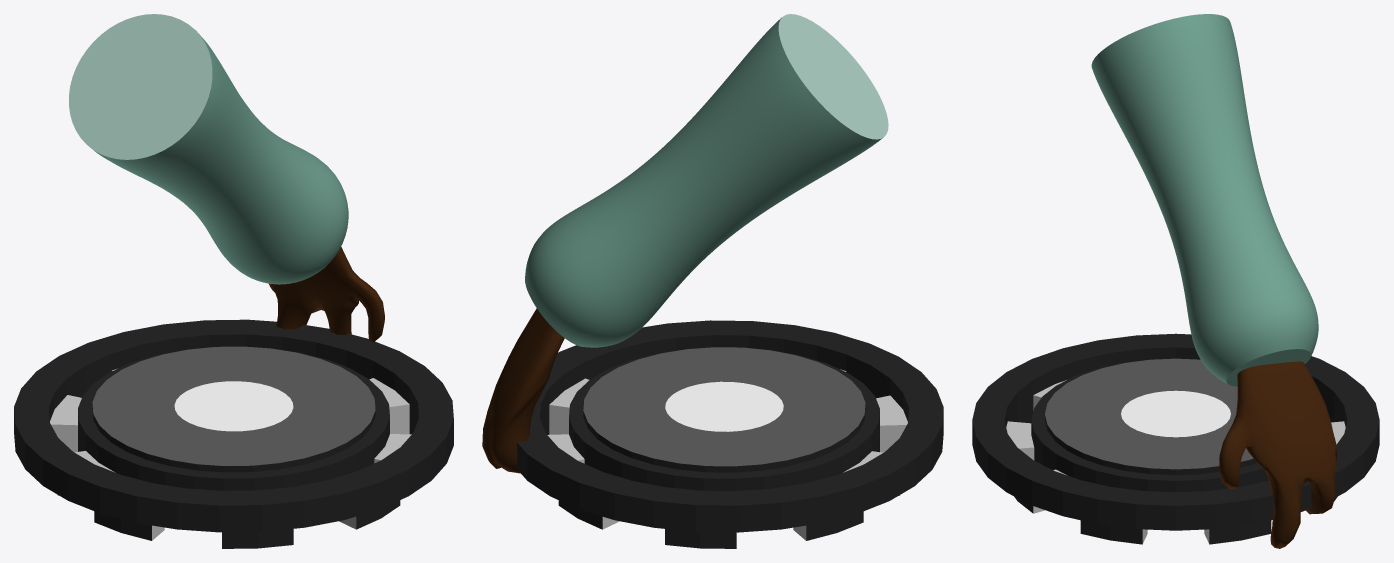
File: volante.fbx
3 renders of one model, left to right at view 1: azimuth 30°, elevation 25°; view 2: azimuth 150°, elevation 25°; view 3: azimuth 270°, elevation 25°, orthographic. The views are drawn at different scales.
Visible parts, largest first — view 1: Volante, NurbsPath.001, l_HAND; view 2: Volante, NurbsPath.001, l_HAND; view 3: Volante, NurbsPath.001, l_HAND.
Part boxes in pixels (x1,y1,x2,y2): Volante: (14,319,453,548); NurbsPath.001: (69,14,348,284); l_HAND: (269,246,384,342); Volante: (516,320,943,548); NurbsPath.001: (525,14,888,347); l_HAND: (482,308,564,473); Volante: (972,333,1379,544); NurbsPath.001: (1091,14,1318,386); l_HAND: (1219,361,1336,548).
Size of the model in its own units: 684 by 798 by 684.
Materials: 1 (1 with a texture image).
